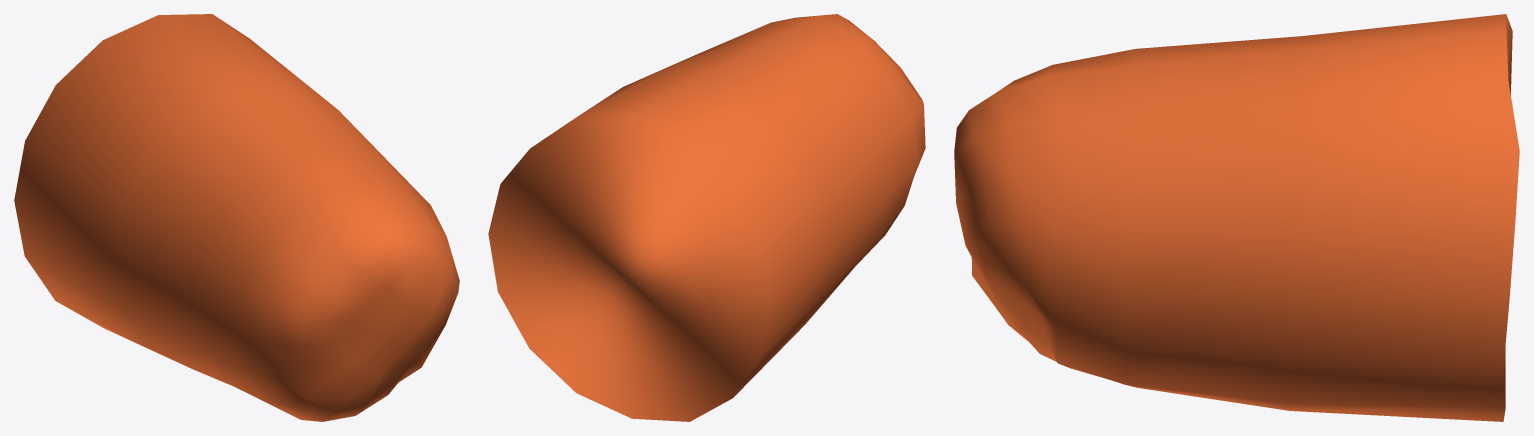
The model's file is carrot_slice1.fbx.
The picture shows the model from 3 angles, left to right: view 1: azimuth 30°, elevation 25°; view 2: azimuth 150°, elevation 25°; view 3: azimuth 270°, elevation 25°; orthographic projection. The views are drawn at different scales.
Visible parts, largest first — view 1: Cylinder.002; view 2: Cylinder.002; view 3: Cylinder.002.
Part boxes in pixels (left/top/right/bottom): Cylinder.002: left=14, top=14, right=459, bottom=421; Cylinder.002: left=488, top=14, right=925, bottom=421; Cylinder.002: left=954, top=14, right=1519, bottom=421.
Size of the model in its own units: 38.3 by 39.34 by 54.36.
